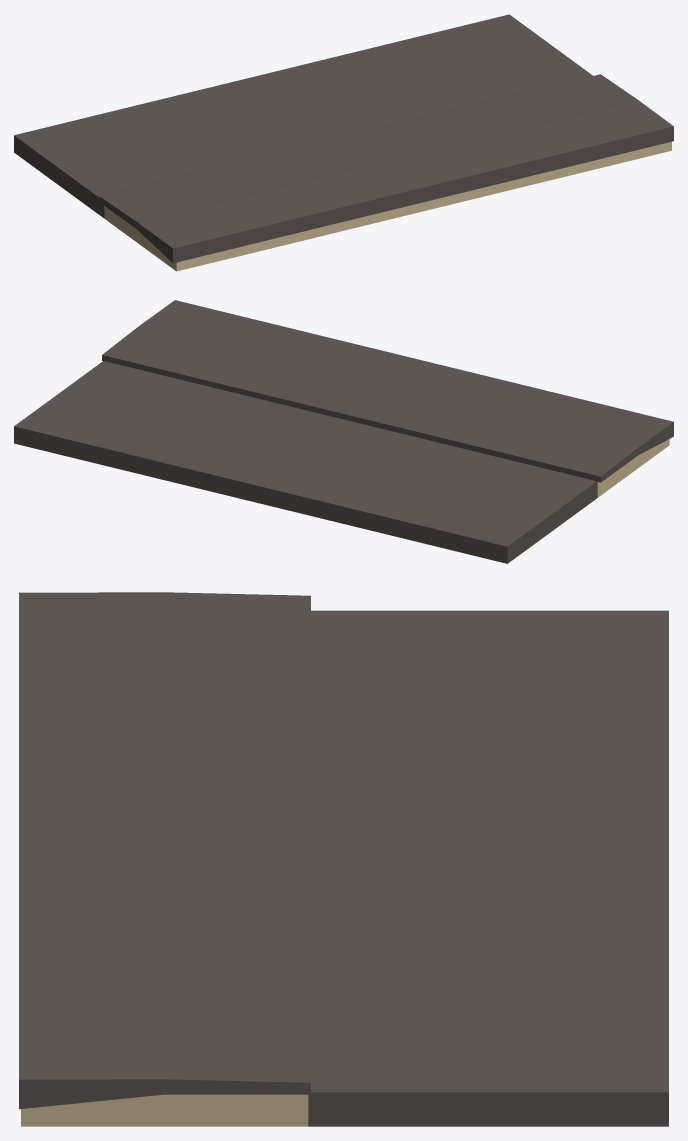
The model's file is VillagePlatformV1.fbx.
The picture shows the model from 3 angles, top to bottom: view 1: azimuth 30°, elevation 25°; view 2: azimuth 150°, elevation 25°; view 3: azimuth 270°, elevation 25°; orthographic projection. The views are drawn at different scales.
Parts seen in each view (by area): view 1: pCube3, pCube2, pCube1; view 2: pCube2, pCube3, pCube1; view 3: pCube2, pCube3, pCube1.
Boxes of the visible parts, box(x1,y1,x2,y2) form: pCube3: box(99, 74, 673, 263); pCube2: box(14, 14, 592, 218); pCube1: box(104, 141, 671, 271); pCube2: box(14, 361, 597, 563); pCube3: box(102, 300, 673, 482); pCube1: box(597, 439, 669, 497); pCube2: box(308, 610, 668, 1126); pCube3: box(19, 592, 310, 1109); pCube1: box(21, 1094, 308, 1126).
Size of the model in its own units: 4.23 by 0.1978 by 2.38.
